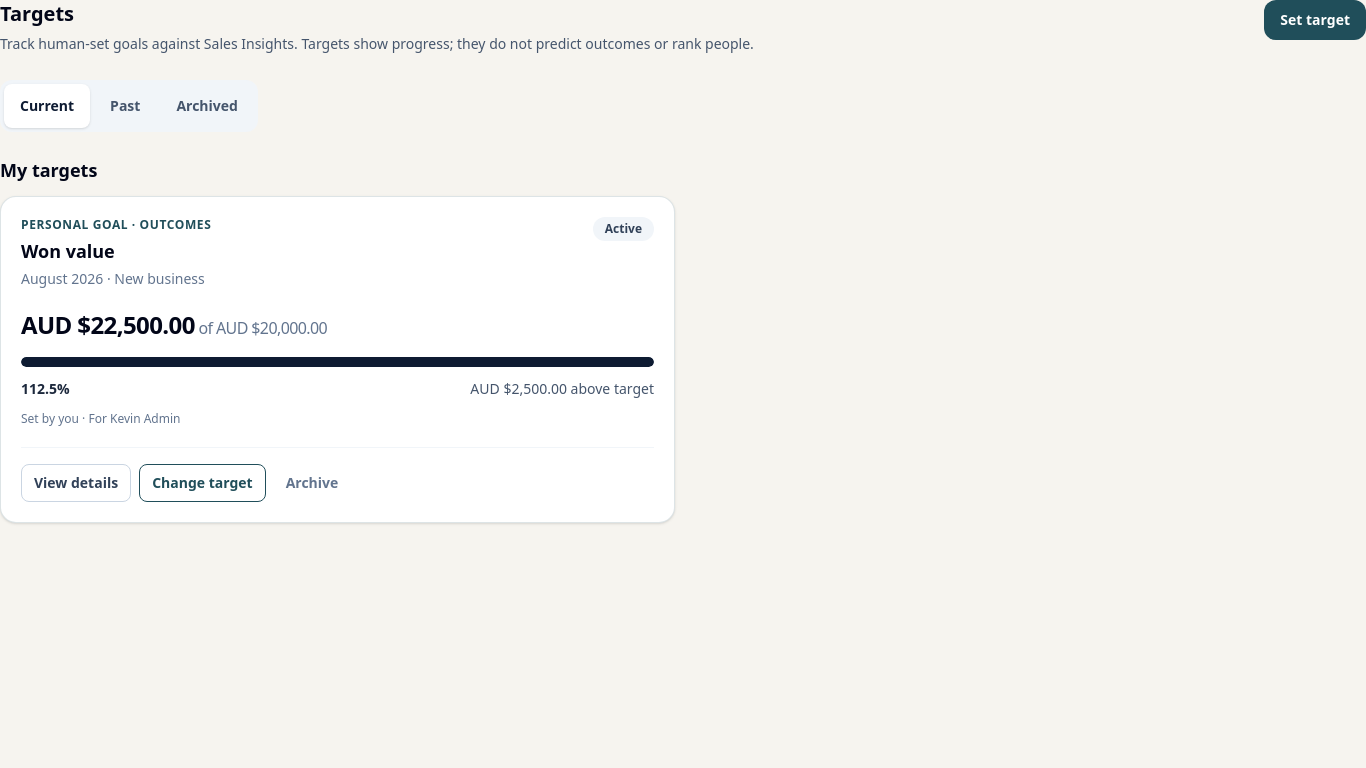
Test case: sales targets › shows exact progress above 100%, calculation detail and revision history
Expected: the text "112.5%" is shown, [21,379,70,399]
Expected: the element named "Target periods" is shown, [0,80,258,132]
Click the button "View details": click(76, 483) [21,464,131,502]
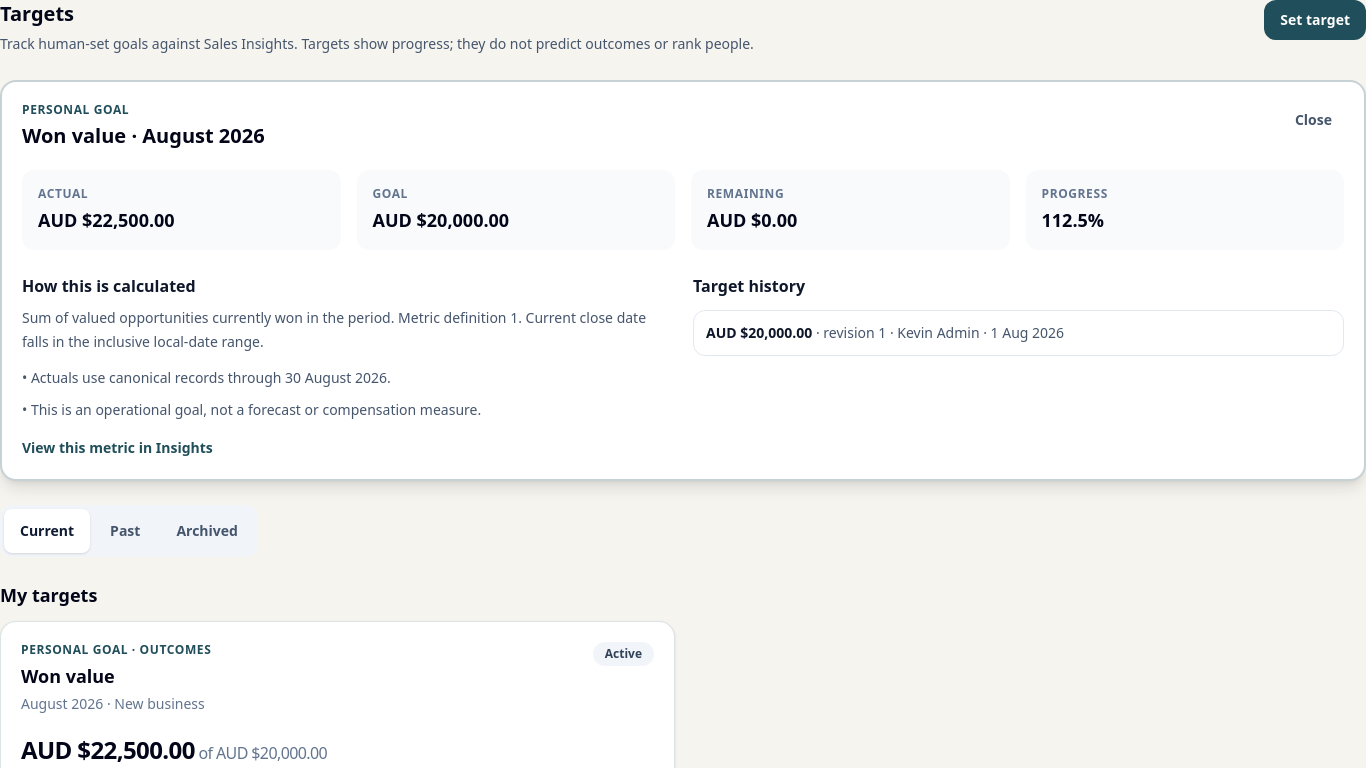
Expected: the dialog shows "How this is calculated", [22,275,196,297]
Expected: the dialog shows "not a forecast or compensation measure", [31,400,481,419]
Expected: the list item "AUD $20,000.00 · revision 1 · Kevin Admin · 1 Aug 2026" is shown, [693,310,1344,356]
